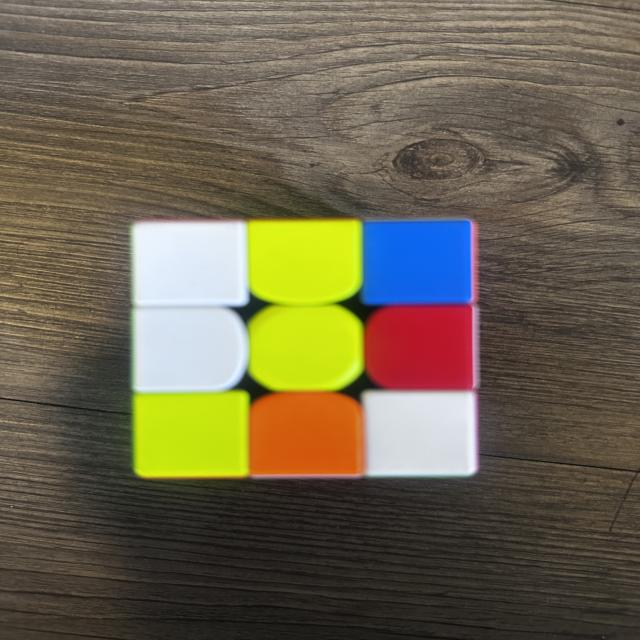sticker: (130, 218, 251, 311), (133, 390, 251, 480), (361, 390, 478, 480), (247, 219, 365, 308), (132, 306, 250, 395), (247, 392, 367, 479), (246, 305, 366, 392), (362, 306, 477, 394), (362, 220, 474, 310)
